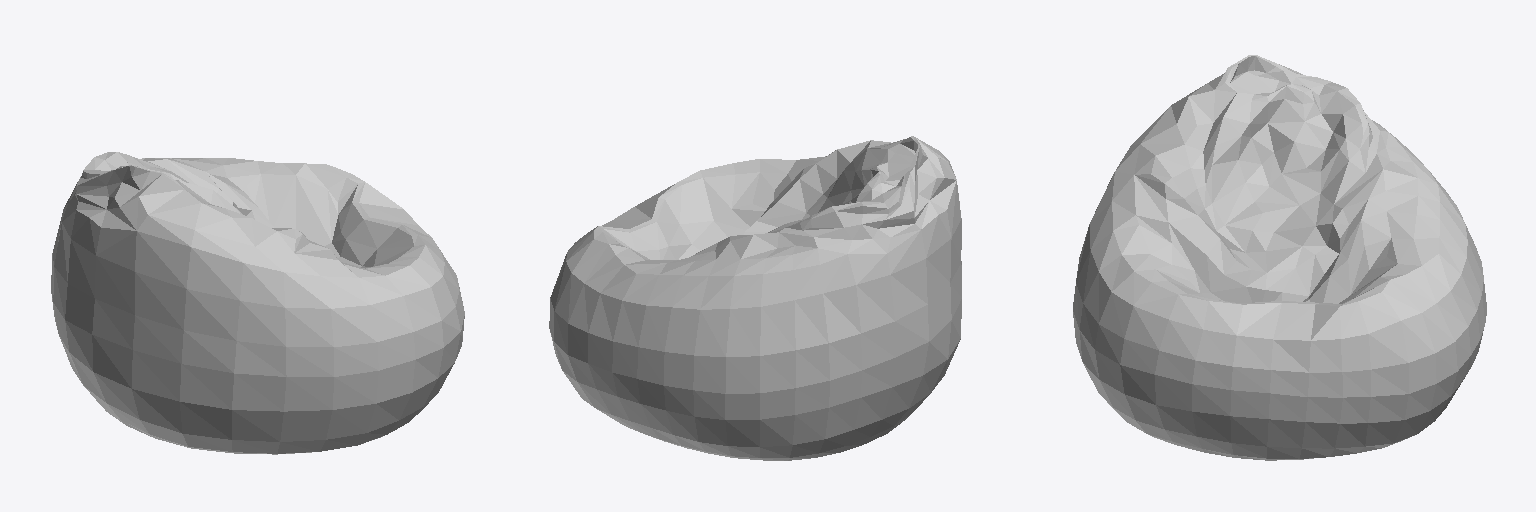
Rendered from beanbag.obj.
The picture shows the model from 3 angles: view 1: azimuth 30°, elevation 25°; view 2: azimuth 150°, elevation 25°; view 3: azimuth 270°, elevation 25°; orthographic projection.
Visible parts, largest first — view 1: SM_BeanBag; view 2: SM_BeanBag; view 3: SM_BeanBag.
Boxes of the visible parts, box(x1,y1,x2,y2) form: SM_BeanBag: box(51, 152, 464, 454); SM_BeanBag: box(549, 136, 961, 460); SM_BeanBag: box(1073, 55, 1486, 460).
Size of the model in its own units: 0.8084 by 0.5879 by 0.8247.